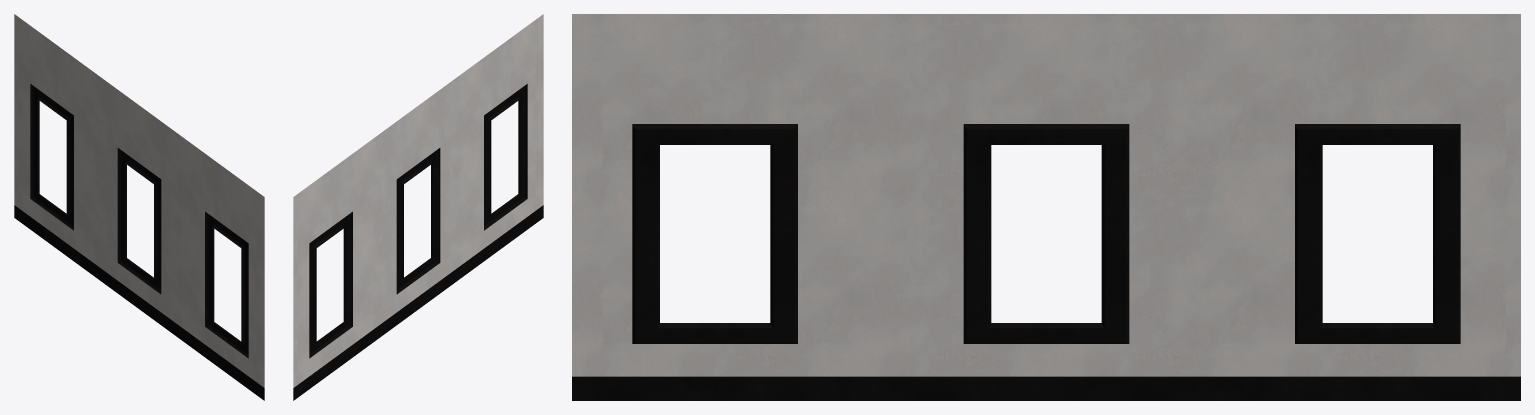
Rendered from newClassroomWall.fbx.
3 renders of one model, left to right at view 1: azimuth 30°, elevation 25°; view 2: azimuth 150°, elevation 25°; view 3: azimuth 270°, elevation 25°, orthographic. The views are drawn at different scales.
Visible parts, largest first — view 1: normal_wall1; view 2: normal_wall1; view 3: normal_wall1.
Part boxes in pixels (x1,y1,x2,y2): normal_wall1: [14, 14, 264, 400]; normal_wall1: [293, 14, 543, 400]; normal_wall1: [572, 14, 1520, 400].
Bounding box in the file's own units: 0.0519 × 3.6 × 8.
